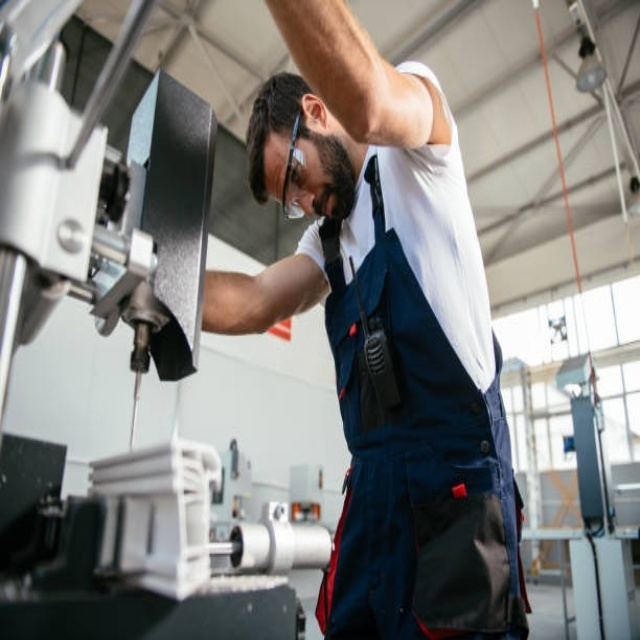Gafas: (283, 108, 307, 226)
Sin_mascara: (312, 183, 340, 222)
